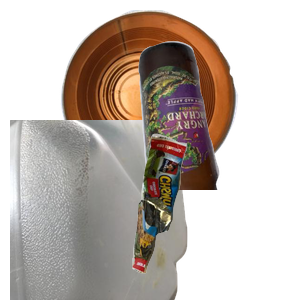glass: (136, 39, 300, 219)
metal: (58, 10, 289, 186)
plastic: (10, 120, 190, 300)
trash: (130, 131, 300, 300)
